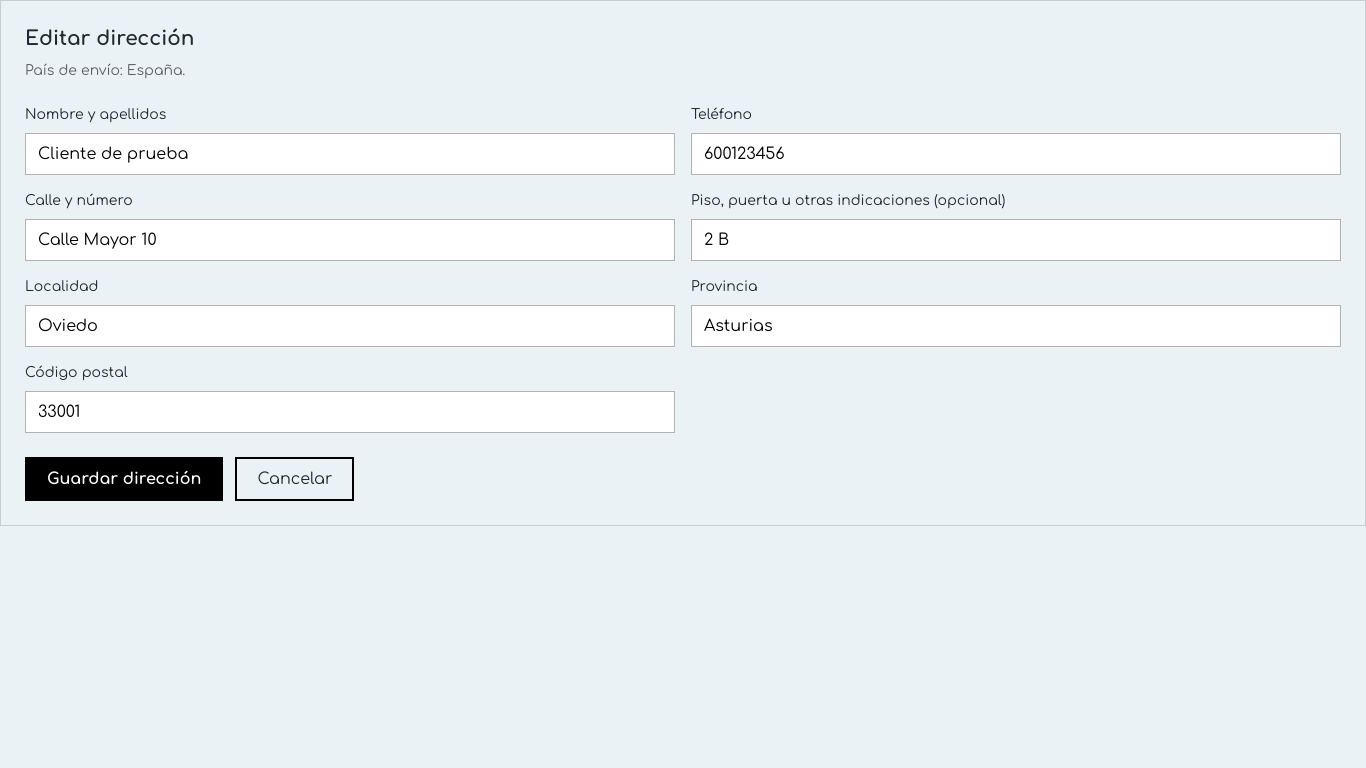
Test: ShippingAddressForm › rejects an invalid postalCode
Replace the text in the field labelled "Código postal" with "1234": (350, 412) [25,391,675,433]
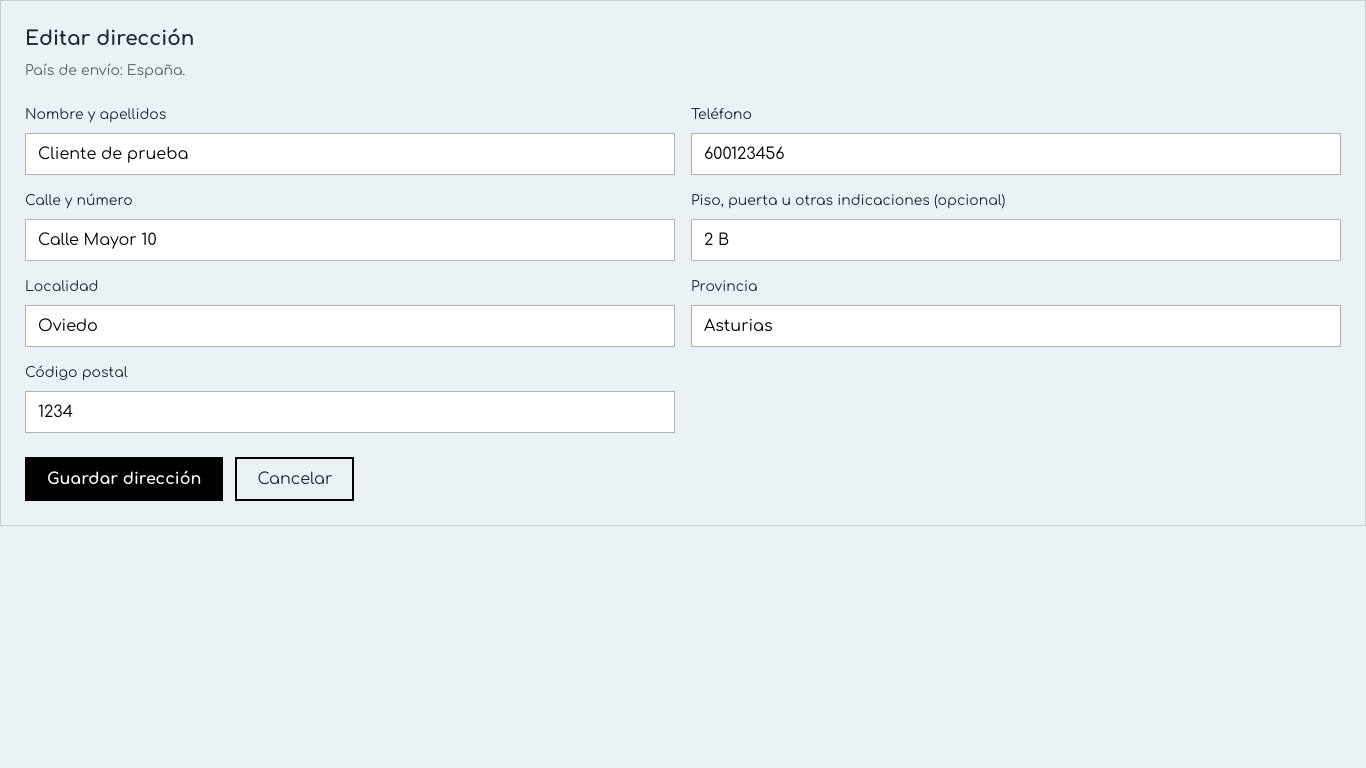
Submit the form
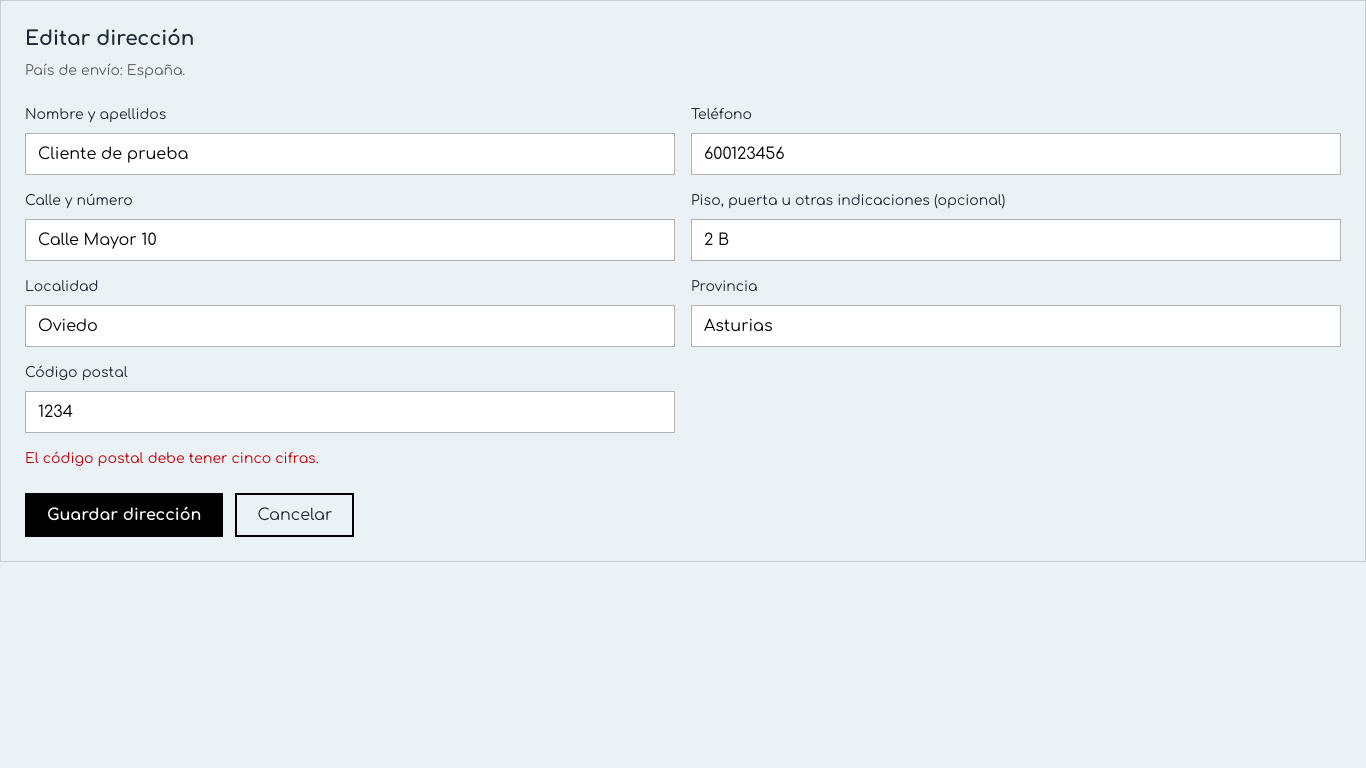
Now the message "El código postal debe tener cinco cifras." is shown, box [25,451,319,466]
